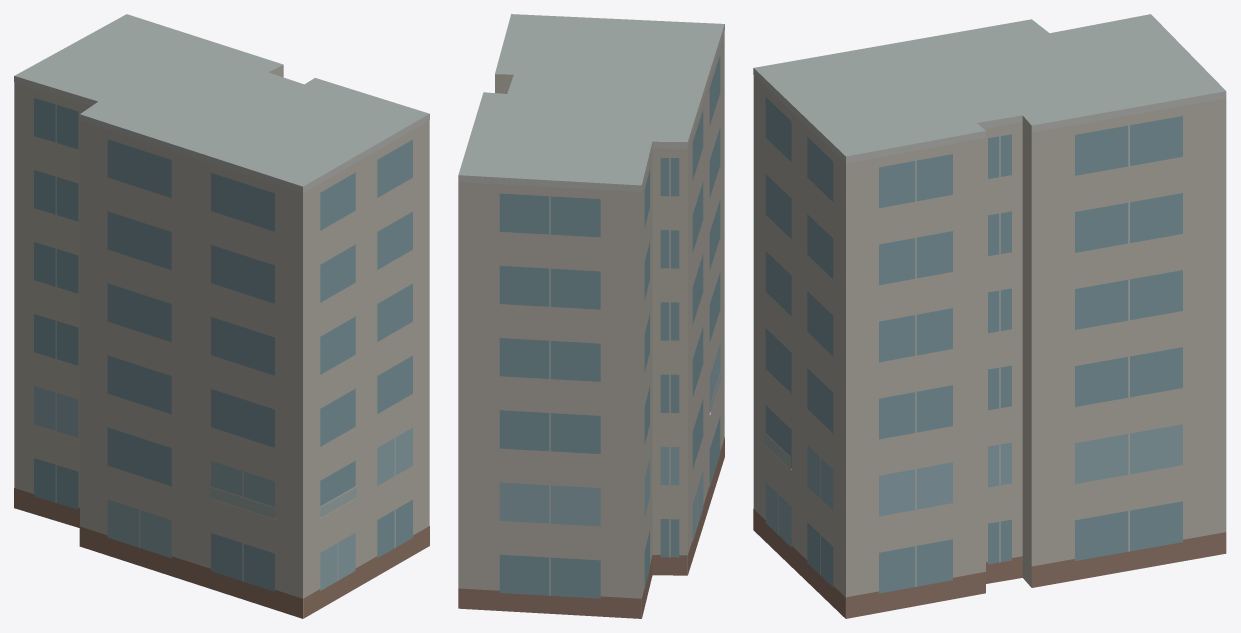
Rendered from survey-upis-32846299.glb.
3 views of the same model, side by side, from view 1: azimuth 30°, elevation 25°; view 2: azimuth 150°, elevation 25°; view 3: azimuth 270°, elevation 25° (orthographic). The views are drawn at different scales.
Visible parts, largest first — view 1: survey-upis-32846299.tmp; view 2: survey-upis-32846299.tmp; view 3: survey-upis-32846299.tmp.
Boxes of the visible parts, left/top/right/bottom form: survey-upis-32846299.tmp: left=14, top=14, right=429, bottom=618; survey-upis-32846299.tmp: left=458, top=14, right=724, bottom=618; survey-upis-32846299.tmp: left=753, top=14, right=1226, bottom=618.
Size of the model in its own units: 10.65 by 16.1 by 14.93.
